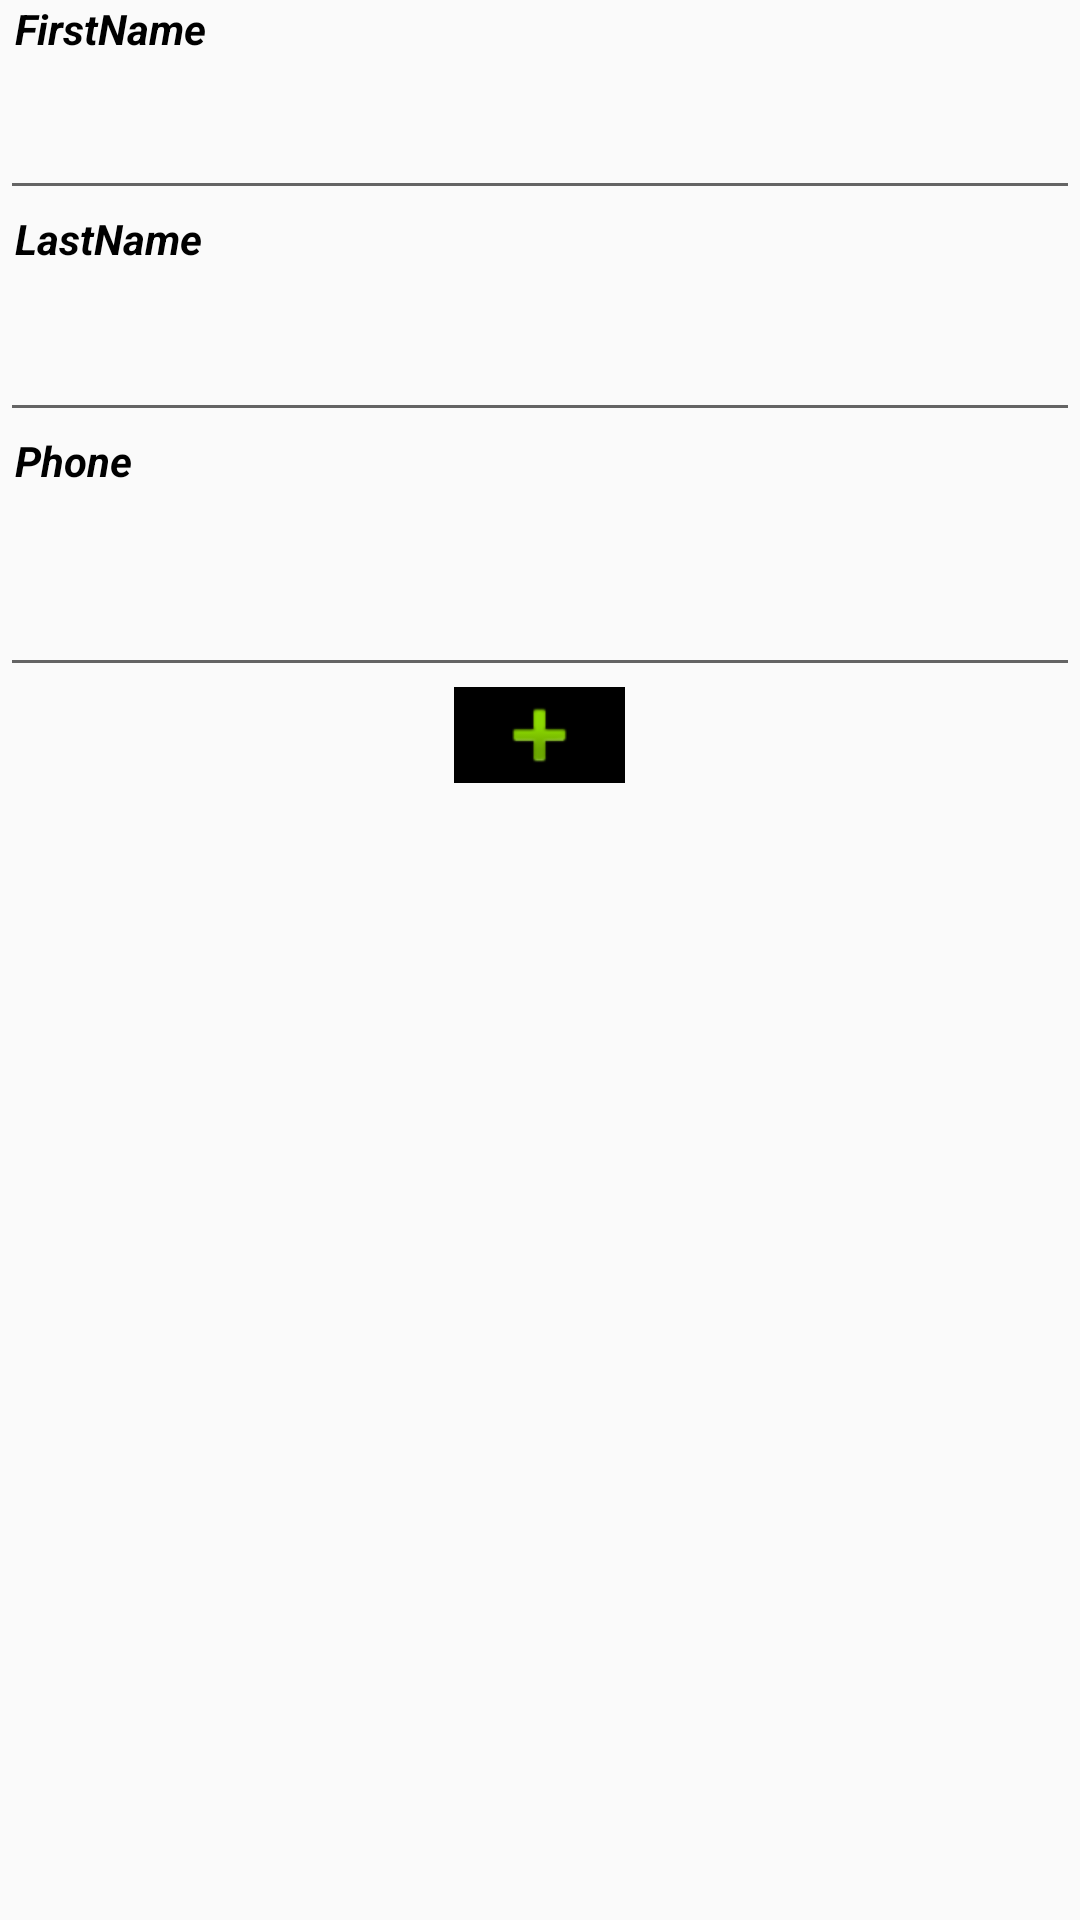

Icons on this 1080×1920 Android screen, each with the point to tap as (x,y):
add: (539,735)
